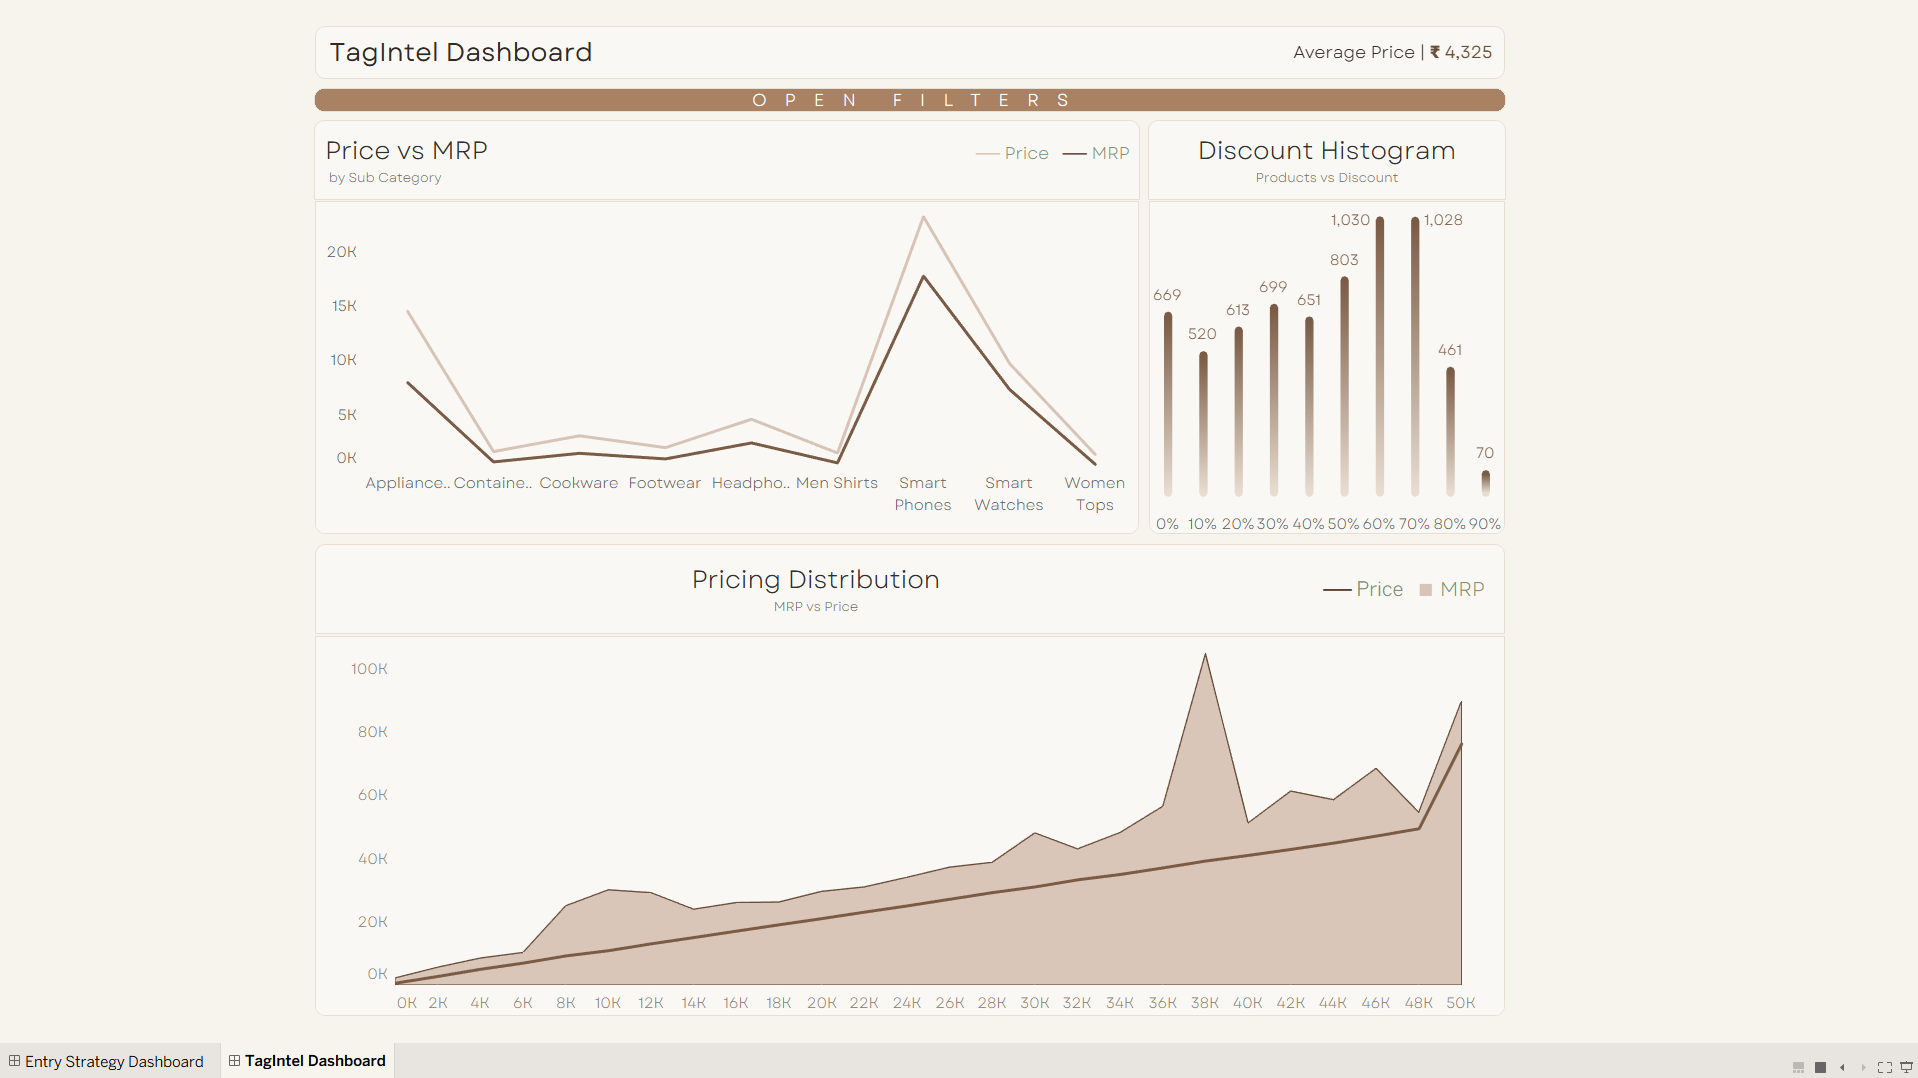

The dashboard page shown, as its layout file describes it:
{"tool":"tableau","page":{"name":"TagIntel Dashboard","canvas":[1300,1000],"ordinal":1},"visuals":[{"type":"text","box":[6,6,191,108]},{"type":"text","box":[6,6,965,51]},{"type":"worksheet","title":"KPI - AvgPrice","mark":"Automatic","box":[971,6,223,51]},{"type":"dashboard-object","box":[0,63,1200,32]},{"type":"text","box":[0,95,834,84]},{"type":"text","box":[834,95,366,84]},{"type":"blank","box":[6,114,191,10]},{"type":"filter","title":"KPI - AvgPrice","param":"[federated.0nl8nz00o255w11gitml41axzgtp].[none:Category:nk]","box":[6,124,191,165]},{"type":"worksheet","title":"Price vs MRP","mark":"Line","rows":["Price","MRP"],"cols":["SubCategory"],"box":[0,179,834,339]},{"type":"worksheet","title":"Discount Histogram","mark":"Line","cols":["Discount (bin)"],"box":[834,179,365.9,339]},{"type":"blank","box":[6,289,191,10]},{"type":"filter","title":"KPI - AvgPrice","param":"[federated.0nl8nz00o255w11gitml41axzgtp].[none:SubCategory:nk]","box":[6,299,191,306]},{"type":"text","box":[6,524,1000,88]},{"type":"text","box":[1006,524,188,88]},{"type":"blank","box":[6,605,191,10]},{"type":"worksheet","title":"MRP vs Price ","mark":"Automatic","rows":["MRP","Price"],"cols":["Price (Capped - 50K) (bin)"],"box":[0,615,1200,385]},{"type":"parameter","param":"[Parameters].[Parameter 1731199976624128]","box":[6,615,191,104]},{"type":"blank","box":[6,719,191,10]}]}

Visuals, with their boxes on the page's 1300x1000 design canvas (x1, y1, x2, y2). These are canvas units, not pixel positions in the 1918x1078 screenshot, which may show the page scaled, cropped or inside an application window:
text: 6:6:197:114
text: 6:6:971:57
"KPI - AvgPrice" worksheet: 971:6:1194:57
dashboard-object: 0:63:1200:95
text: 0:95:834:179
text: 834:95:1200:179
blank: 6:114:197:124
"KPI - AvgPrice" filter: 6:124:197:289
"Price vs MRP" worksheet (Line marks): 0:179:834:518
"Discount Histogram" worksheet (Line marks): 834:179:1200:518
blank: 6:289:197:299
"KPI - AvgPrice" filter: 6:299:197:605
text: 6:524:1006:612
text: 1006:524:1194:612
blank: 6:605:197:615
"MRP vs Price " worksheet: 0:615:1200:1000
parameter: 6:615:197:719
blank: 6:719:197:729
